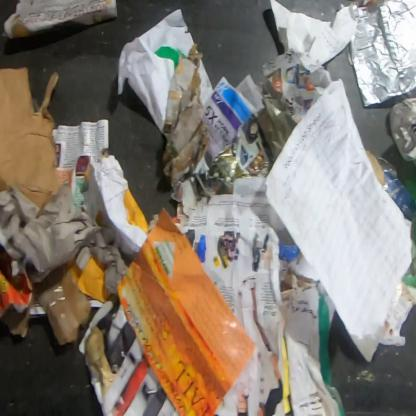cardboard: (0, 68, 59, 212), (162, 43, 210, 189), (39, 264, 91, 344), (369, 156, 386, 189)
rigid_plastic: (373, 155, 415, 222)
soft_plastic: (350, 0, 415, 108)
